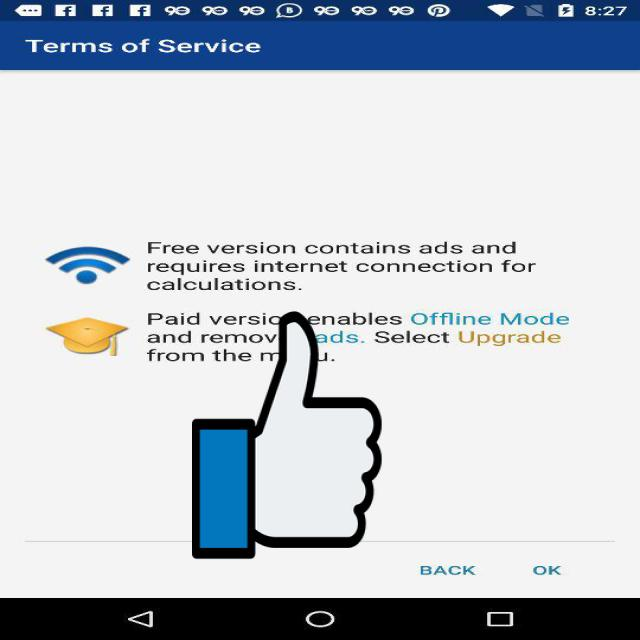privacy zuckering: (192, 306, 382, 564)
